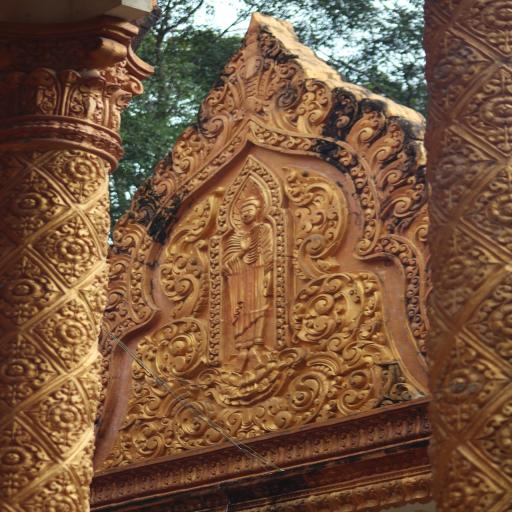hoa: (426, 27, 484, 117), (432, 337, 494, 421), (436, 447, 512, 512), (430, 222, 490, 300), (41, 140, 109, 203), (430, 128, 485, 202), (32, 382, 97, 444), (44, 294, 100, 359), (7, 170, 68, 226), (41, 212, 98, 270), (472, 71, 512, 153), (6, 253, 54, 314), (0, 341, 50, 397), (478, 173, 512, 246), (474, 0, 512, 64), (29, 472, 84, 512), (1, 427, 42, 480), (487, 404, 512, 484), (481, 288, 512, 346)
lua: (291, 275, 377, 348), (290, 162, 346, 260), (271, 351, 341, 428), (158, 200, 212, 297), (135, 317, 211, 377), (114, 380, 164, 458), (168, 394, 244, 444), (340, 344, 392, 410), (381, 140, 427, 184), (389, 175, 429, 223), (348, 105, 384, 148), (300, 80, 330, 130), (372, 122, 404, 167), (198, 95, 231, 134), (326, 87, 352, 136), (176, 132, 203, 169), (109, 285, 129, 326), (152, 163, 178, 194), (118, 220, 144, 248), (110, 251, 129, 279)
than: (216, 196, 282, 352)
